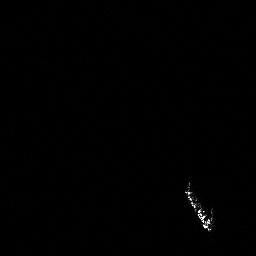ship: (182, 177, 217, 232)
